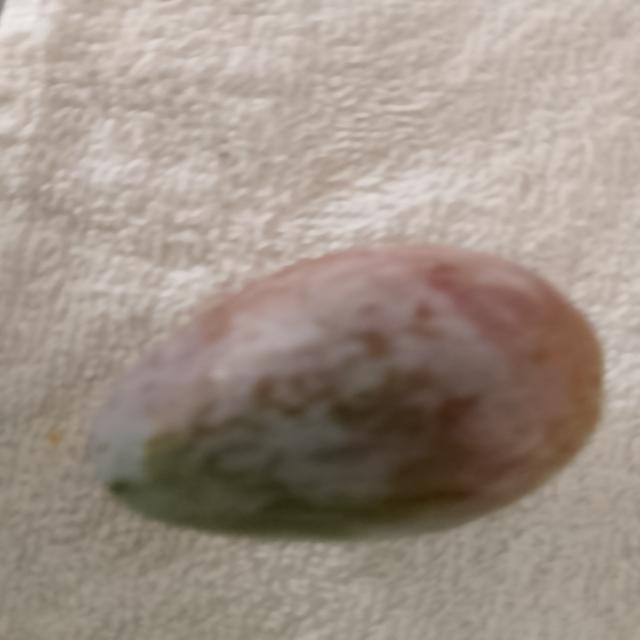mango: (75, 231, 611, 546)
